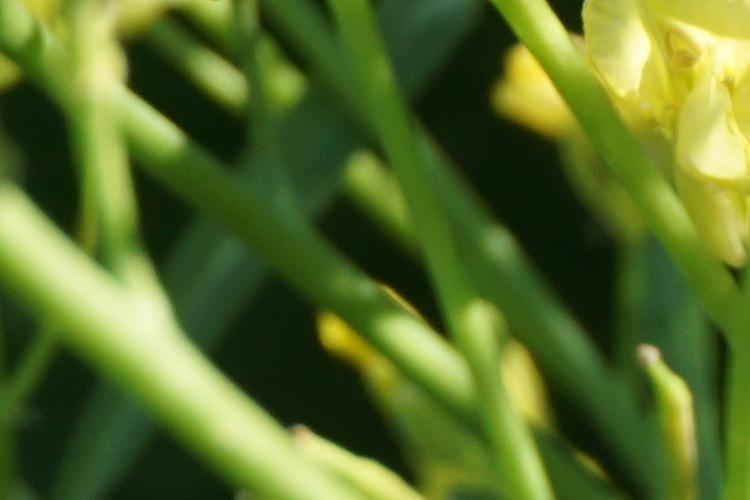pod: (630, 339, 705, 490)
yellow: (590, 15, 750, 241)
